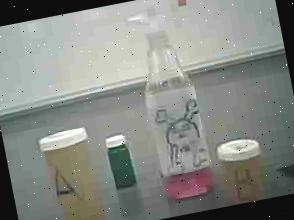Bottle A: (34, 119, 112, 220)
Bottle B: (215, 133, 271, 206)
Bottle C: (103, 132, 140, 196)
hazard: (118, 0, 224, 203)
